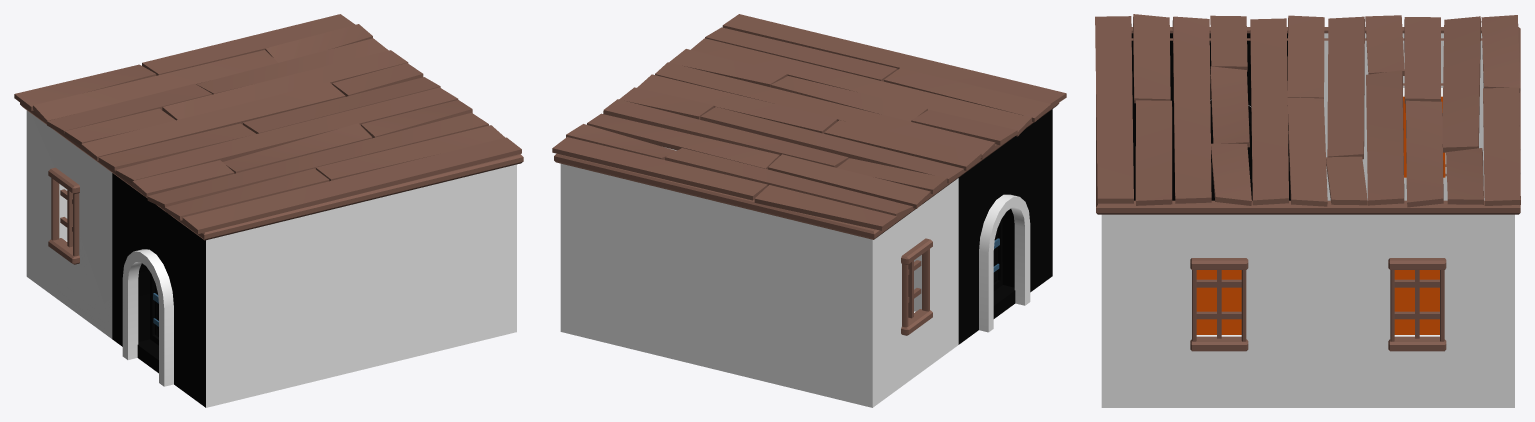
The model's file is CivilianHouse03.fbx.
3 renders of one model, left to right at view 1: azimuth 30°, elevation 25°; view 2: azimuth 150°, elevation 25°; view 3: azimuth 270°, elevation 25°, orthographic. The views are drawn at different scales.
Visible parts, largest first — view 1: civilian_house_39_a; view 2: civilian_house_39_a; view 3: civilian_house_39_a.
Part boxes in pixels (<box>): civilian_house_39_a: <box>14,14,523,407</box>; civilian_house_39_a: <box>552,14,1066,407</box>; civilian_house_39_a: <box>1095,14,1520,407</box>.
Size of the model in its own units: 639 by 342 by 618.
